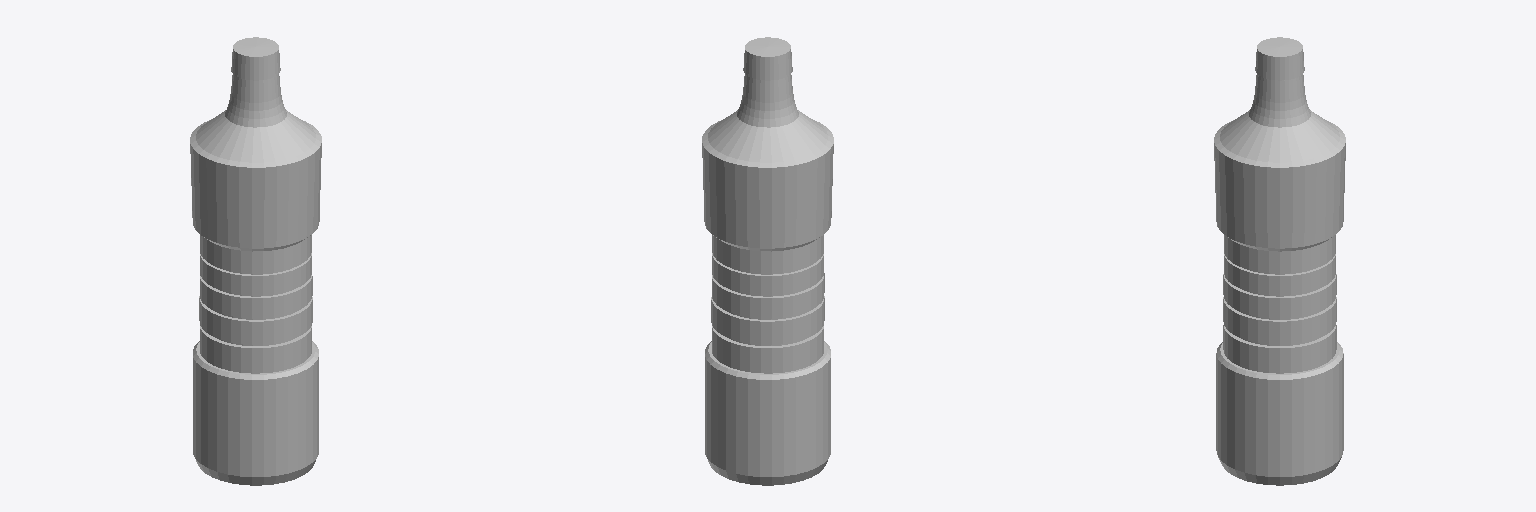
Rendered from bottle3.obj.
3 renders of one model, left to right at view 1: azimuth 30°, elevation 25°; view 2: azimuth 150°, elevation 25°; view 3: azimuth 270°, elevation 25°, orthographic.
Parts seen in each view (by area): view 1: bottle3; view 2: bottle3; view 3: bottle3.
Part boxes in pixels (x1,y1,x2,y2): bottle3: (190, 37, 321, 485); bottle3: (702, 37, 833, 485); bottle3: (1214, 37, 1345, 485).
Bounding box in the file's own units: 0.13 × 0.4541 × 0.13.